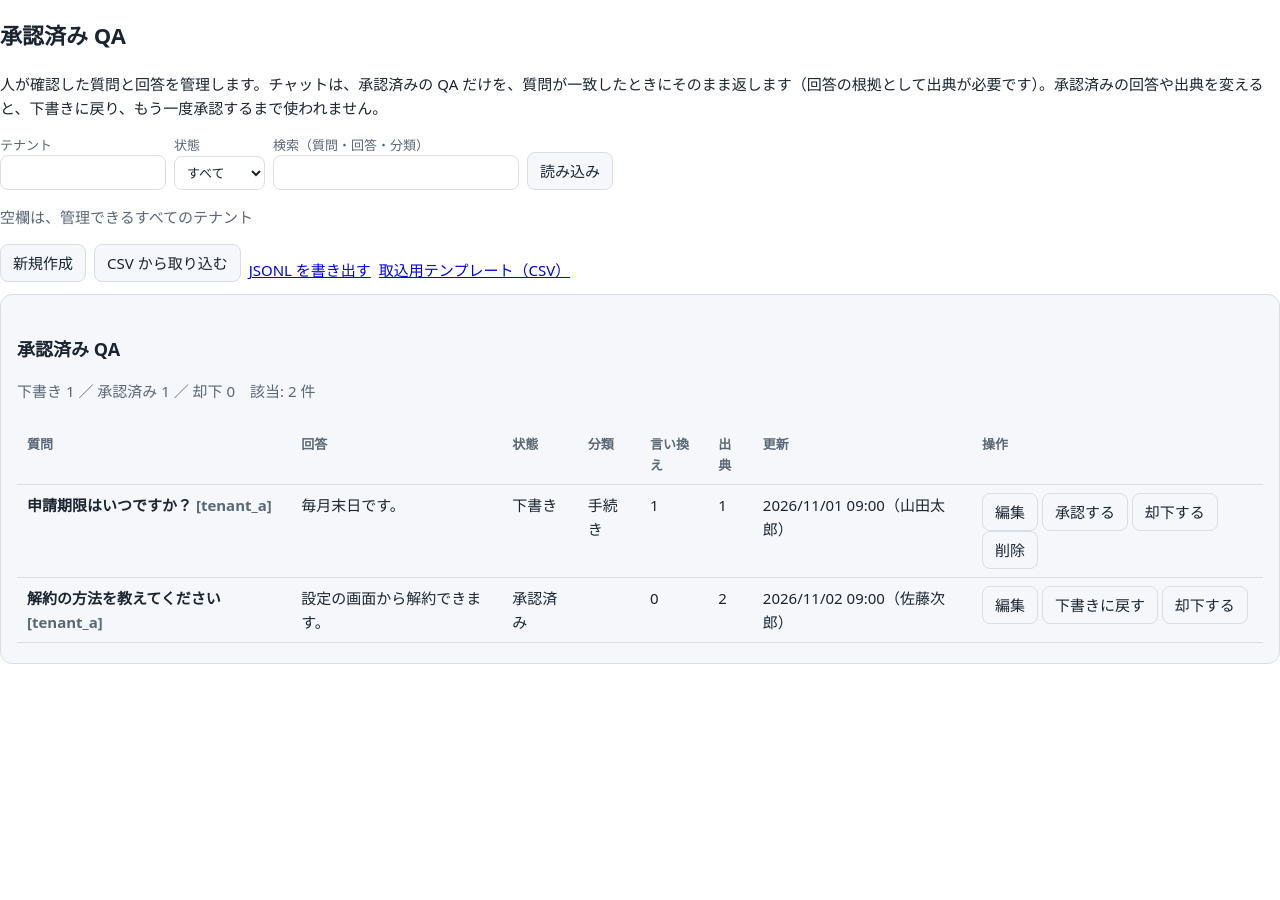
Test: the approved QA page › approves with a reason and a name, and shows the server's reason when it refuses
Click the button with aria-label "承認する: 申請期限". click: (1085, 512)
box: top-left (1042, 493), bottom-right (1128, 531)
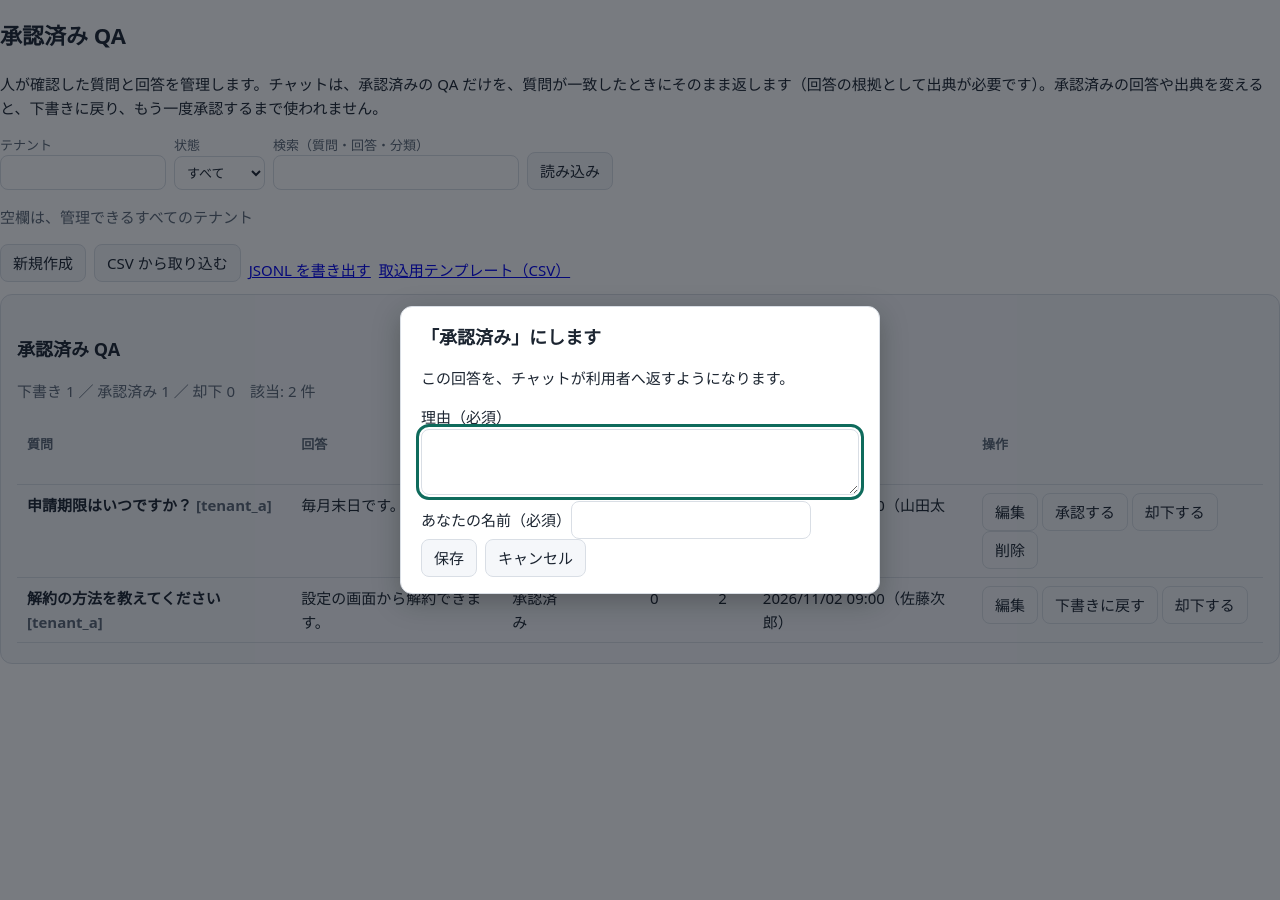
Result: the dialog shows "この回答を、チャットが利用者へ返すようになります。" at top-left (421, 368), bottom-right (794, 388)
Click the button "保存". click: (449, 558)
box: top-left (421, 539), bottom-right (477, 577)
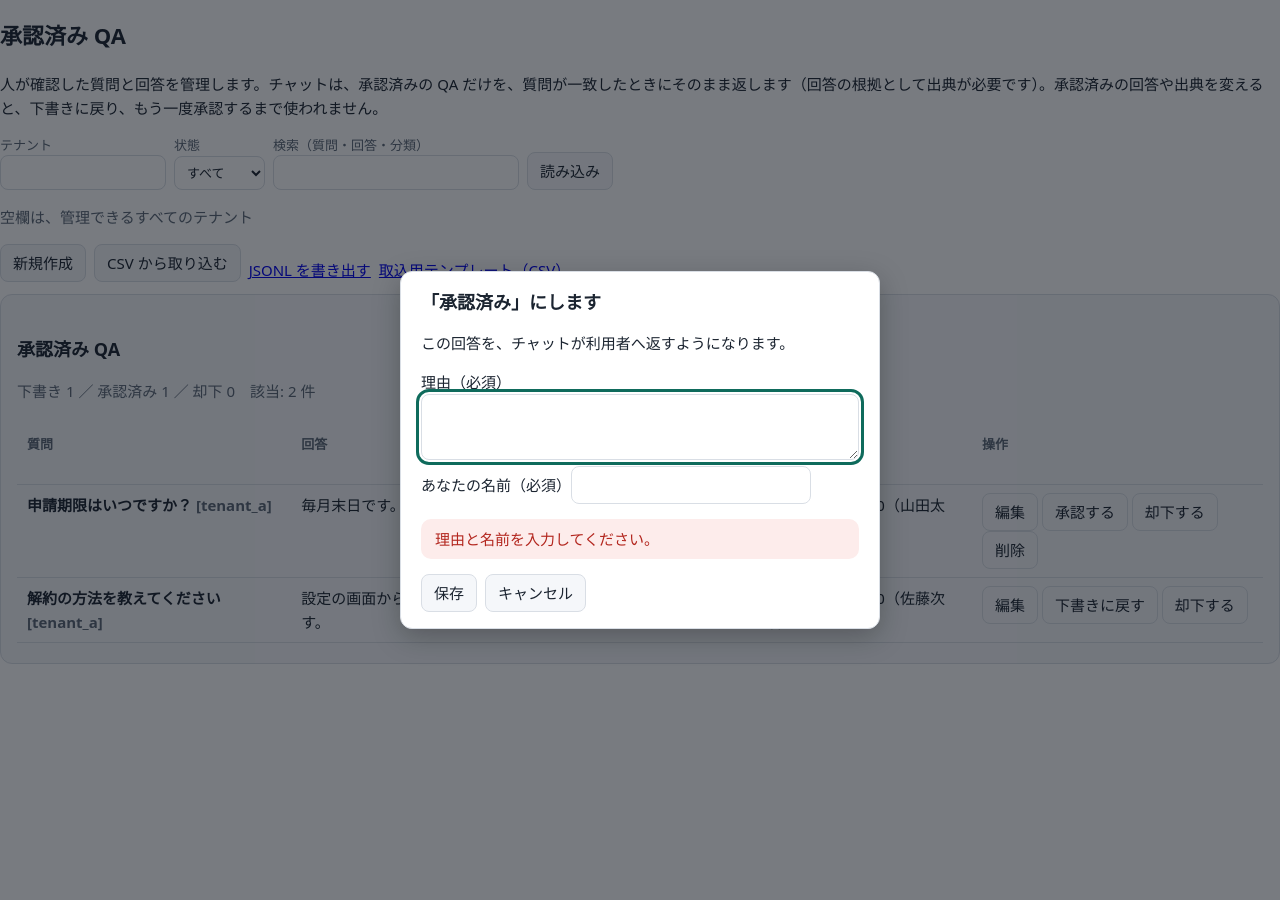
Result: the text "理由と名前を入力してください。" is shown at top-left (421, 519), bottom-right (859, 559)
Type "内容を確認した" into the text box labelled "理由（必須）". click: (640, 427)
box: top-left (421, 394), bottom-right (859, 460)
Type "佐藤次郎" into the field labelled "あなたの名前（必須）". click: (691, 485)
box: top-left (571, 466), bottom-right (811, 504)
Click the button "保存". click: (449, 593)
box: top-left (421, 574), bottom-right (477, 612)
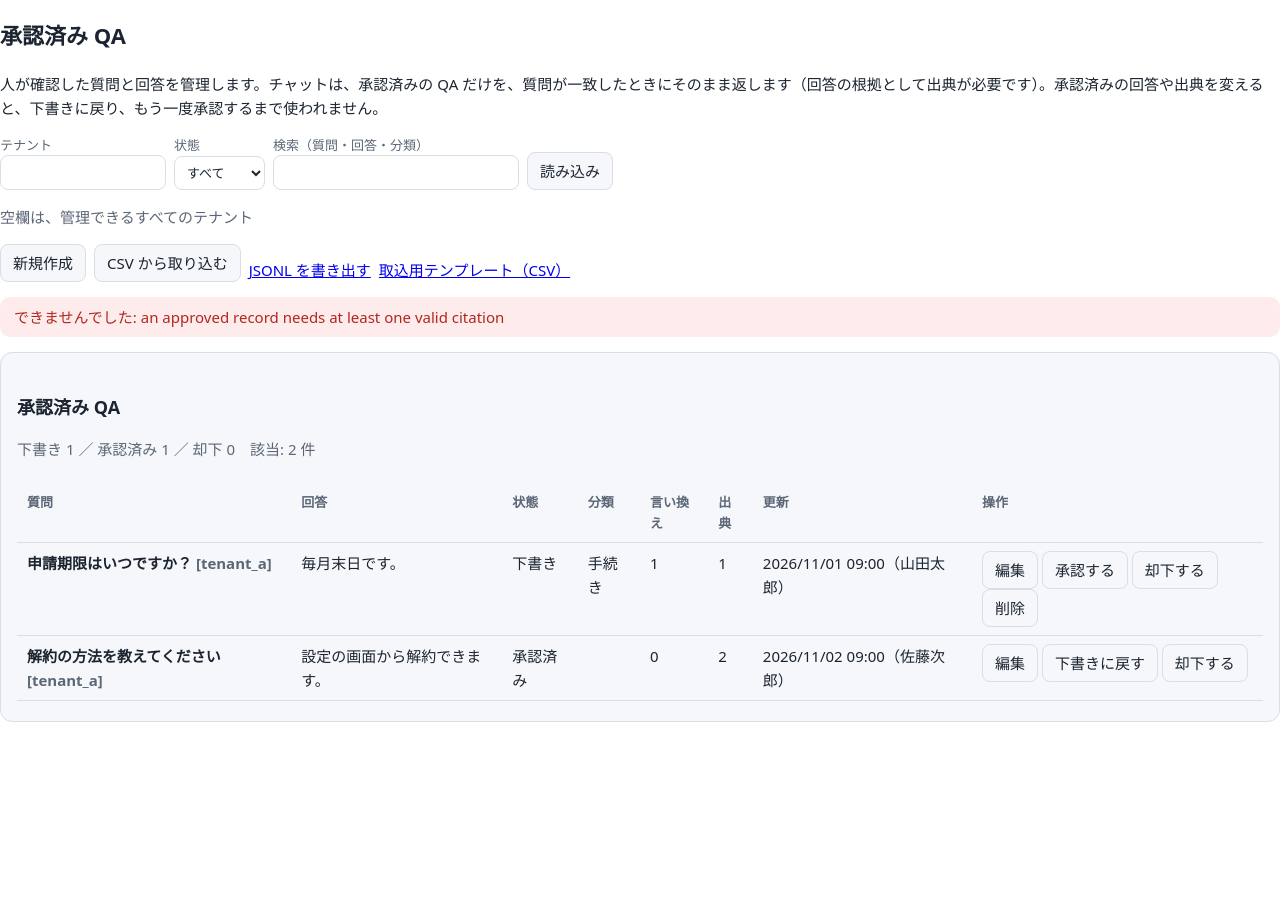
Result: the text "できませんでした: an approved record needs at least one valid citation" is shown at top-left (0, 297), bottom-right (1279, 337)
Click the button with aria-label "承認する: 申請期限". click: (1085, 570)
box: top-left (1042, 551), bottom-right (1128, 589)
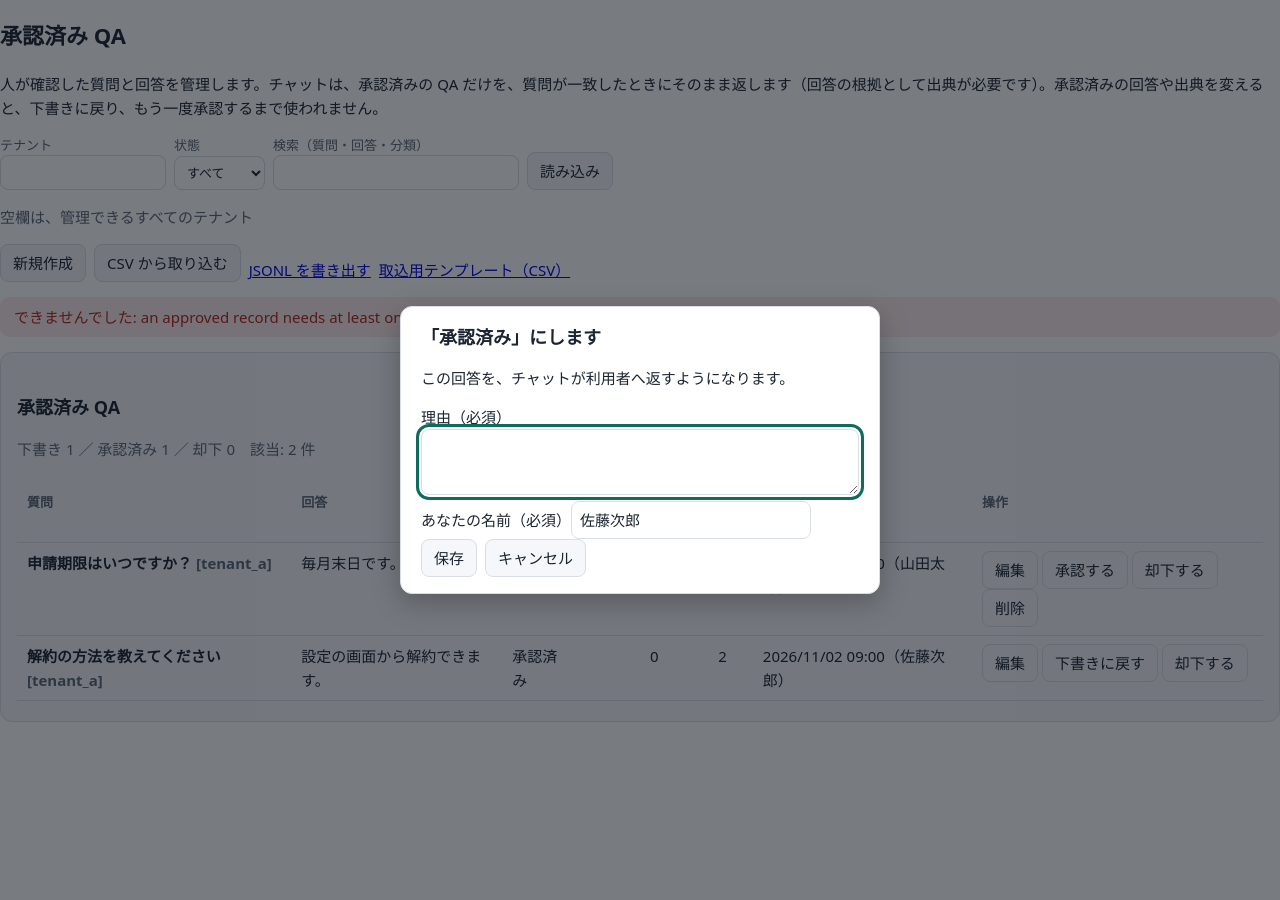
Type "出典を足した" into the text box labelled "理由（必須）". click: (640, 462)
box: top-left (421, 429), bottom-right (859, 495)
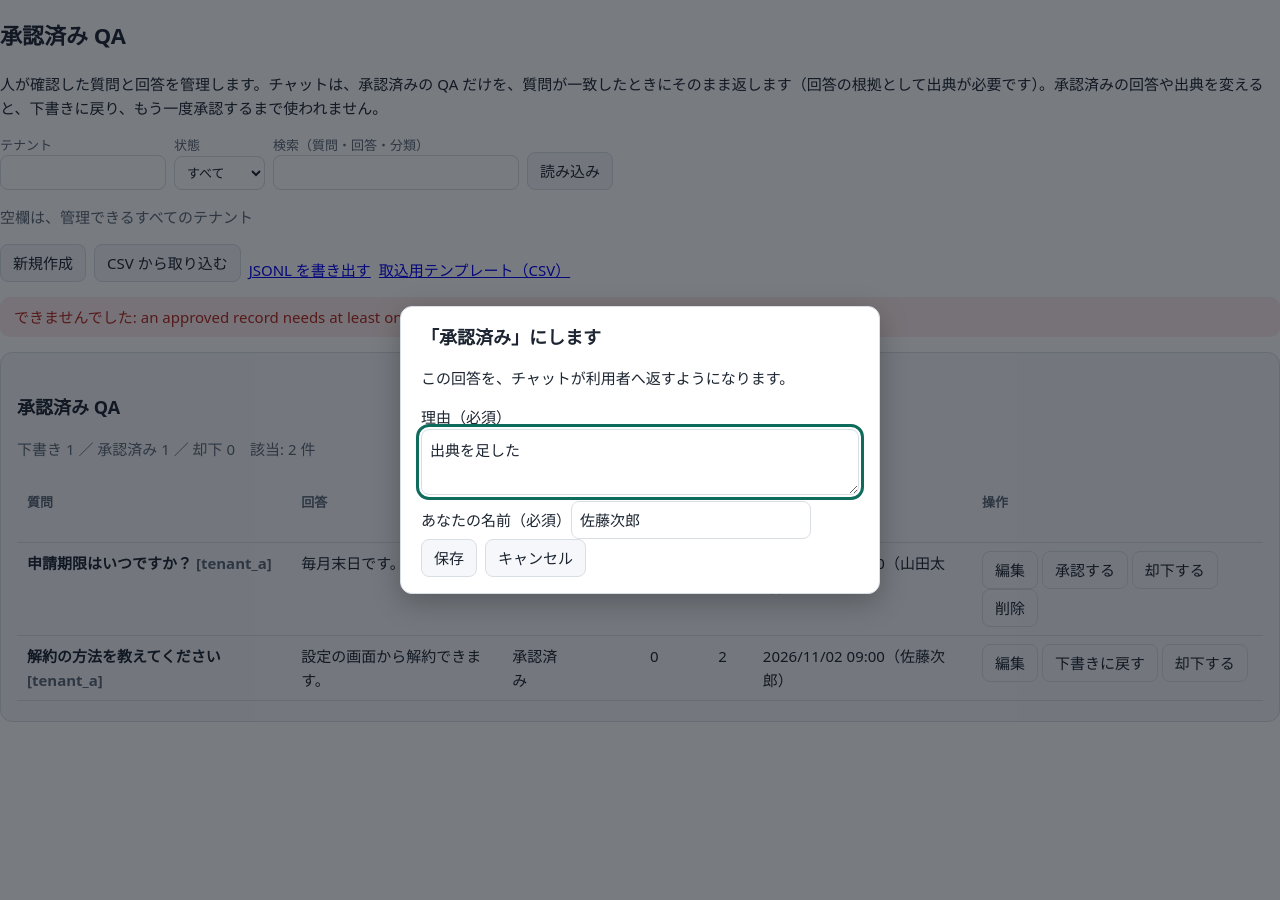
Click the button "保存". click: (449, 558)
box: top-left (421, 539), bottom-right (477, 577)
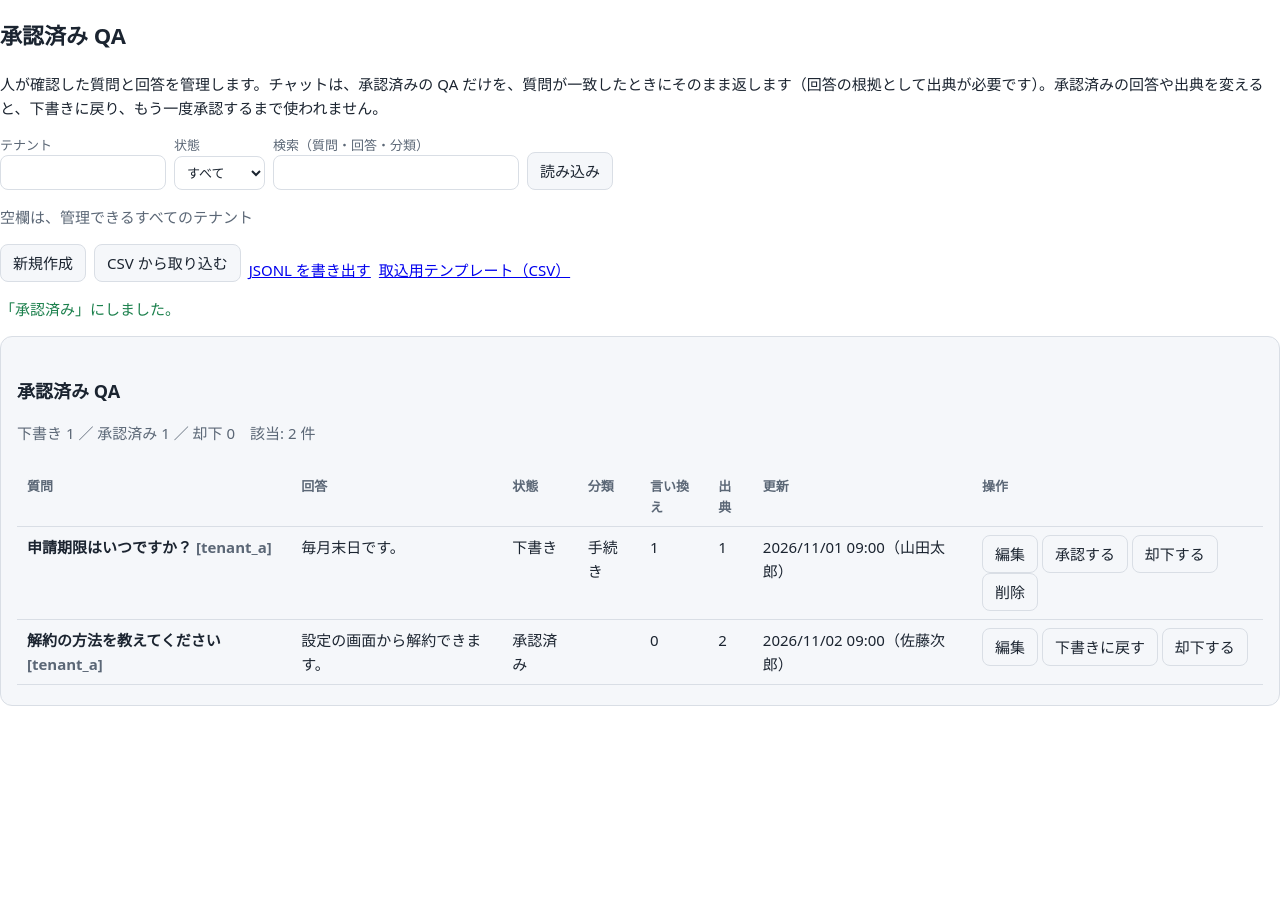
Result: the text "「承認済み」にしました。" is shown at top-left (0, 299), bottom-right (180, 319)
